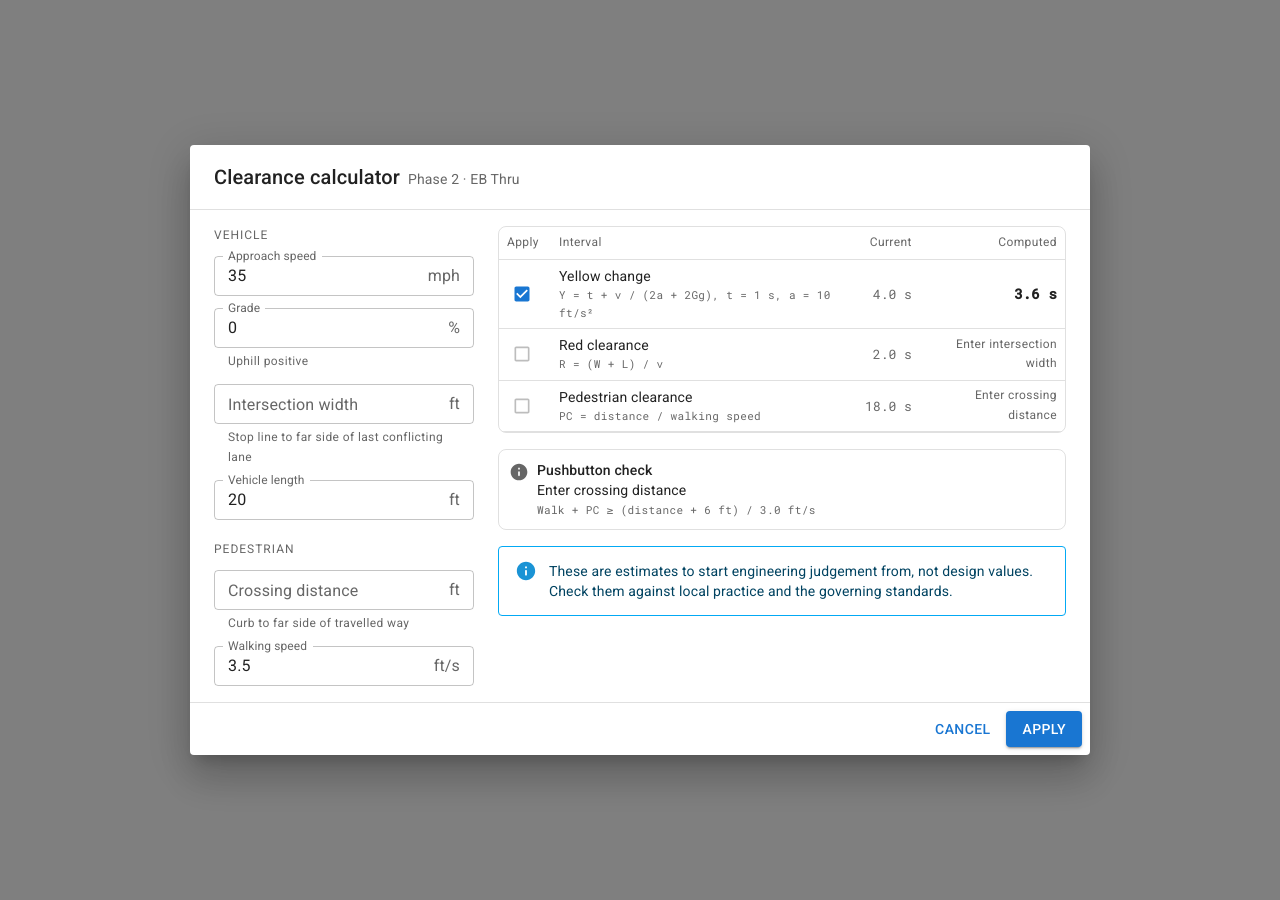
Test: ClearanceDialog › flags a grade outside the file format range
Replace the text in the field labelled "Grade" with "20" at (327, 328), box [214,308,440,348]
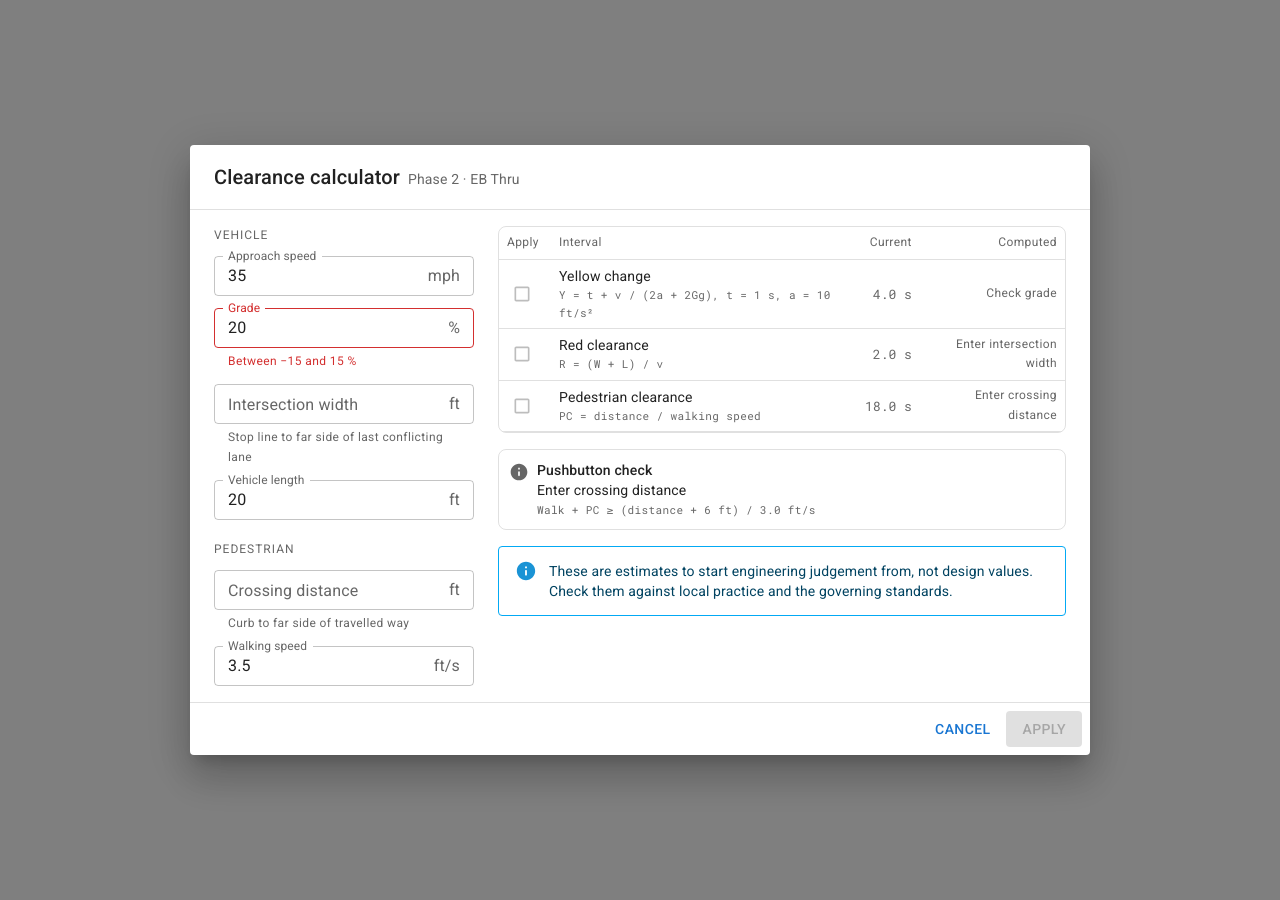
Result: the text "Between −15 and 15 %" is shown at [228,354,357,368]
Result: the text "Check grade" is shown at [986,286,1057,300]
